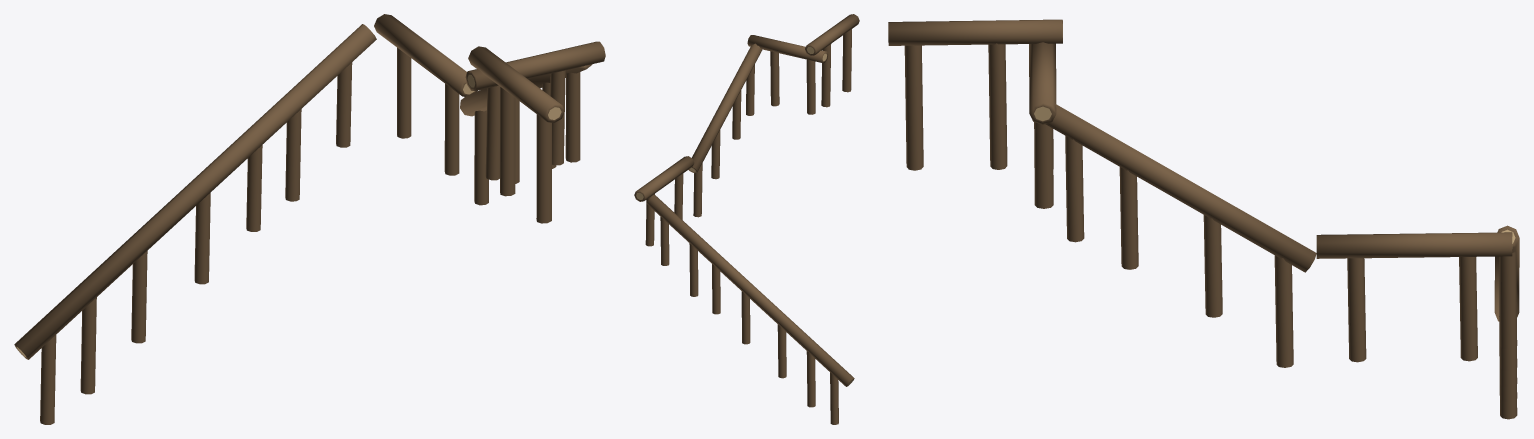
The model's file is rpgpp_ag_stairs_interior_01c_3m_handrail_01.fbx.
3 renders of one model, left to right at view 1: azimuth 30°, elevation 25°; view 2: azimuth 150°, elevation 25°; view 3: azimuth 270°, elevation 25°, orthographic. The views are drawn at different scales.
Visible parts, largest first — view 1: rpgpp_ag_stairs_interior_01c_3m_handrail_01; view 2: rpgpp_ag_stairs_interior_01c_3m_handrail_01; view 3: rpgpp_ag_stairs_interior_01c_3m_handrail_01.
Boxes of the visible parts, x1,y1,x2,y2 form: rpgpp_ag_stairs_interior_01c_3m_handrail_01: [14, 14, 605, 424]; rpgpp_ag_stairs_interior_01c_3m_handrail_01: [634, 14, 859, 424]; rpgpp_ag_stairs_interior_01c_3m_handrail_01: [888, 19, 1519, 419].
Size of the model in its own units: 3.35 by 3.87 by 4.19.
